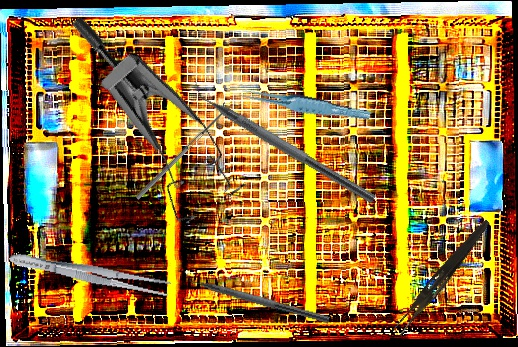Chopper: (180, 72, 384, 205), (177, 266, 333, 324)
Dressing Forceps: (392, 214, 492, 340), (7, 247, 172, 300)
Spatula Surgical: (132, 101, 231, 201)
Speculum: (13, 12, 272, 242)
Tissue Forceps: (238, 78, 372, 130)
